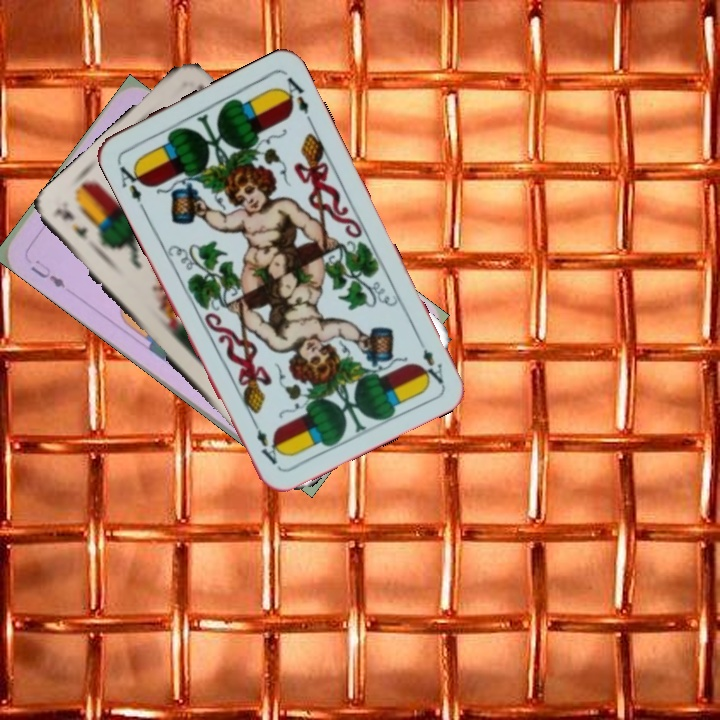EA: (113, 157, 149, 212), (412, 331, 447, 387)
EK: (52, 205, 91, 241)
EU: (26, 255, 68, 291)
